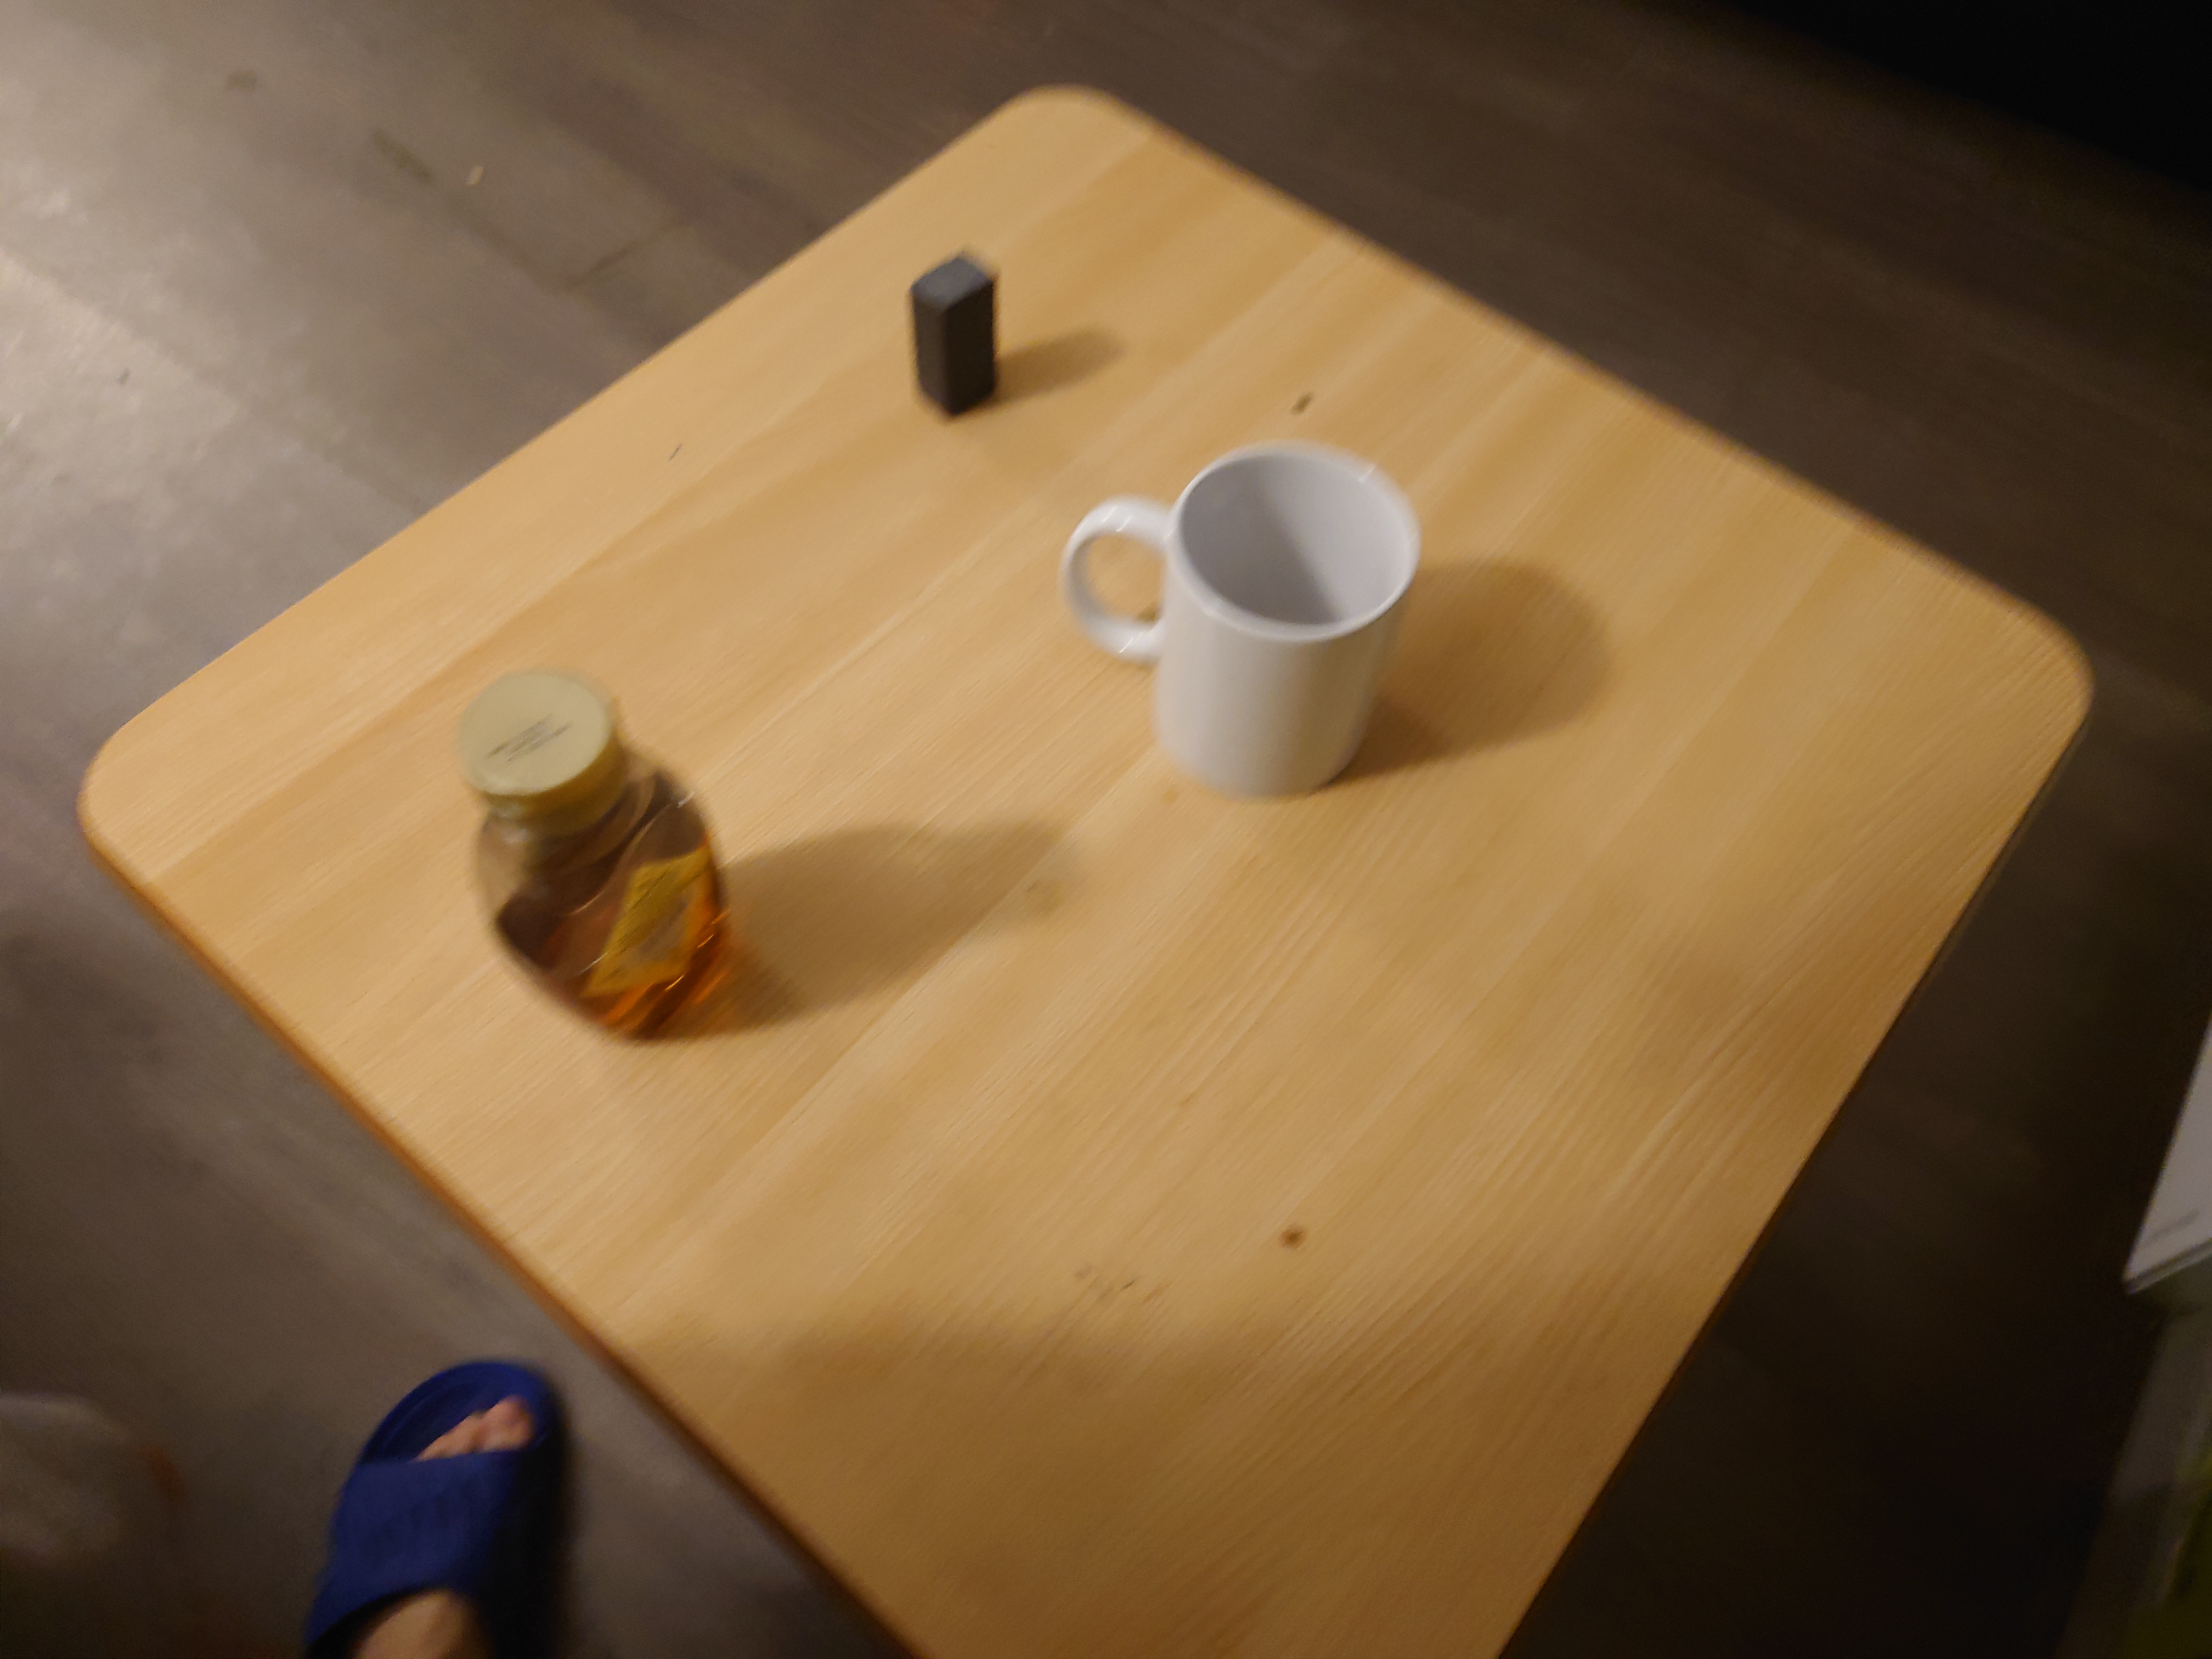cup: (1062, 436, 1418, 805)
target: (907, 253, 1000, 420)
